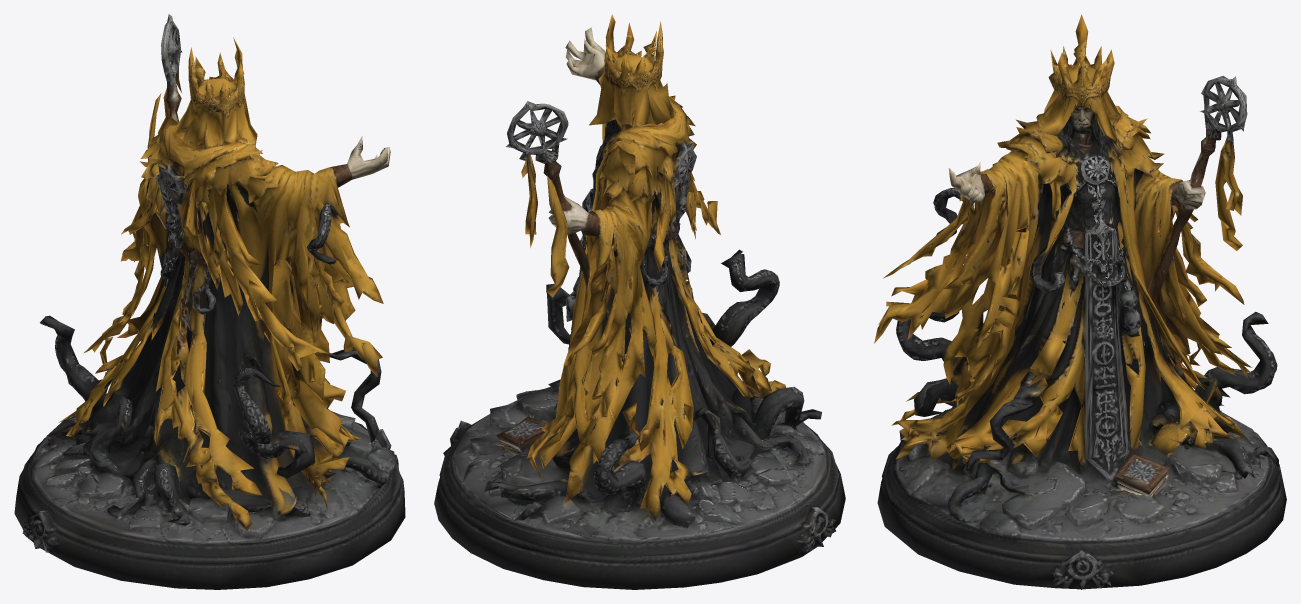
Rendered from The-Yellow-King.glb.
3 renders of one model, left to right at view 1: azimuth 30°, elevation 25°; view 2: azimuth 150°, elevation 25°; view 3: azimuth 270°, elevation 25°, orthographic. The views are drawn at different scales.
Visible parts, largest first — view 1: tripo_node_d14a9e5e-7ffe-4c82-ab04-6ee24d99a1a1; view 2: tripo_node_d14a9e5e-7ffe-4c82-ab04-6ee24d99a1a1; view 3: tripo_node_d14a9e5e-7ffe-4c82-ab04-6ee24d99a1a1.
Boxes of the visible parts, box(x1,y1,x2,y2) form: tripo_node_d14a9e5e-7ffe-4c82-ab04-6ee24d99a1a1: box(14, 14, 405, 589); tripo_node_d14a9e5e-7ffe-4c82-ab04-6ee24d99a1a1: box(434, 14, 845, 589); tripo_node_d14a9e5e-7ffe-4c82-ab04-6ee24d99a1a1: box(874, 14, 1286, 589).
Bounding box in the file's own units: 0.7693 × 0.9723 × 0.7579.
Materials: 1 (1 with a texture image).
